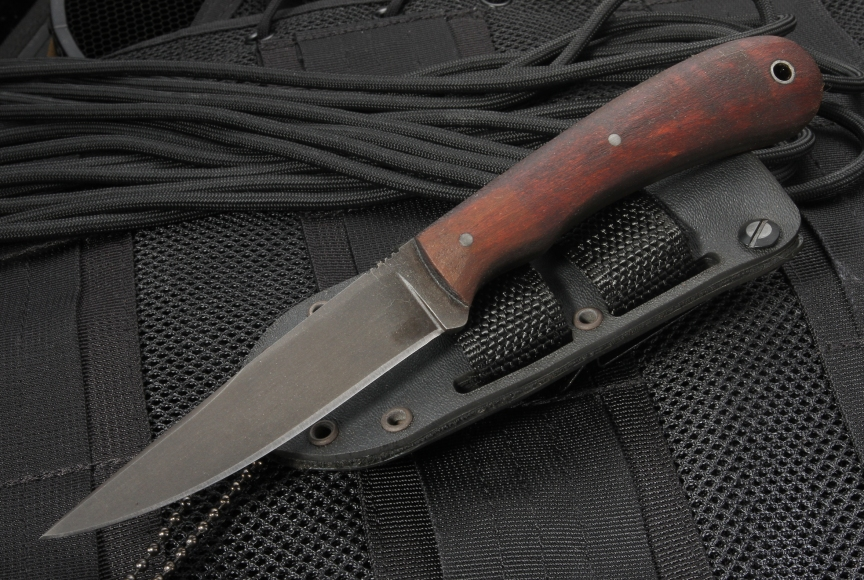knife: (28, 231, 477, 552)
